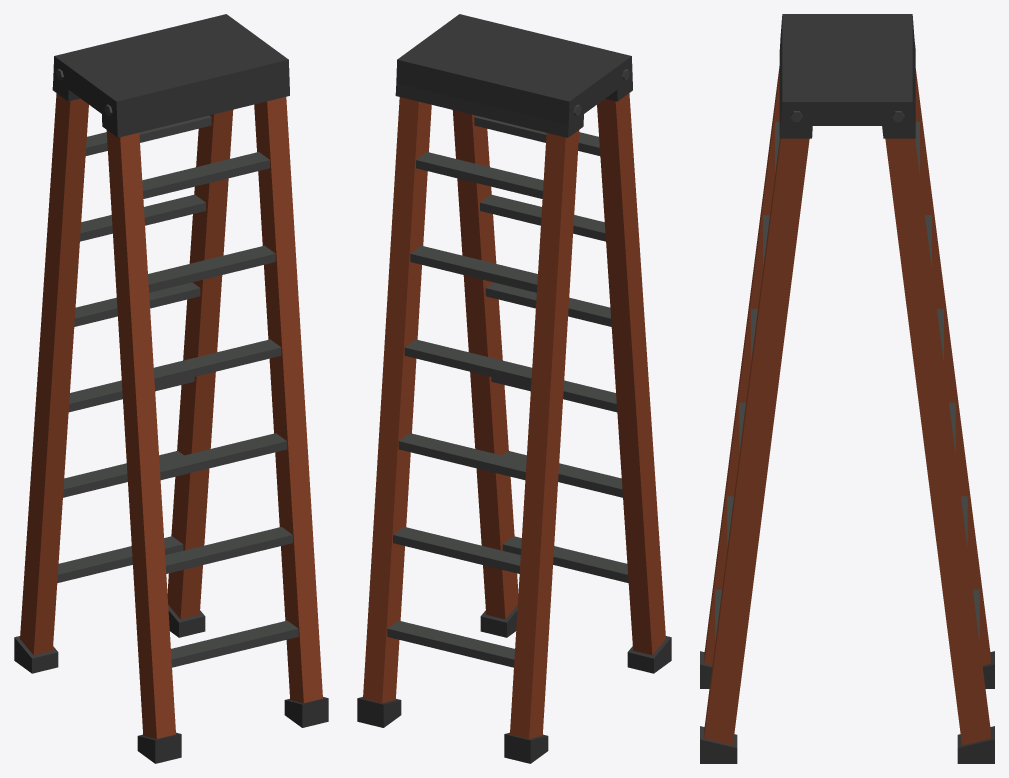
File: SM_Props_ConstructionStairs_01.glb
3 views of the same model, side by side, from view 1: azimuth 30°, elevation 25°; view 2: azimuth 150°, elevation 25°; view 3: azimuth 270°, elevation 25° (orthographic). The views are drawn at different scales.
Visible parts, largest first — view 1: SM_Props_ConstructionStairs_01; view 2: SM_Props_ConstructionStairs_01; view 3: SM_Props_ConstructionStairs_01.
Part boxes in pixels (box(x1,y1,x2,y2)): SM_Props_ConstructionStairs_01: box(14, 14, 328, 763); SM_Props_ConstructionStairs_01: box(357, 14, 671, 763); SM_Props_ConstructionStairs_01: box(700, 14, 994, 763).
Bounding box in the file's own units: 0.5914 × 2.03 × 0.8183.
1 material, 1 textured.
